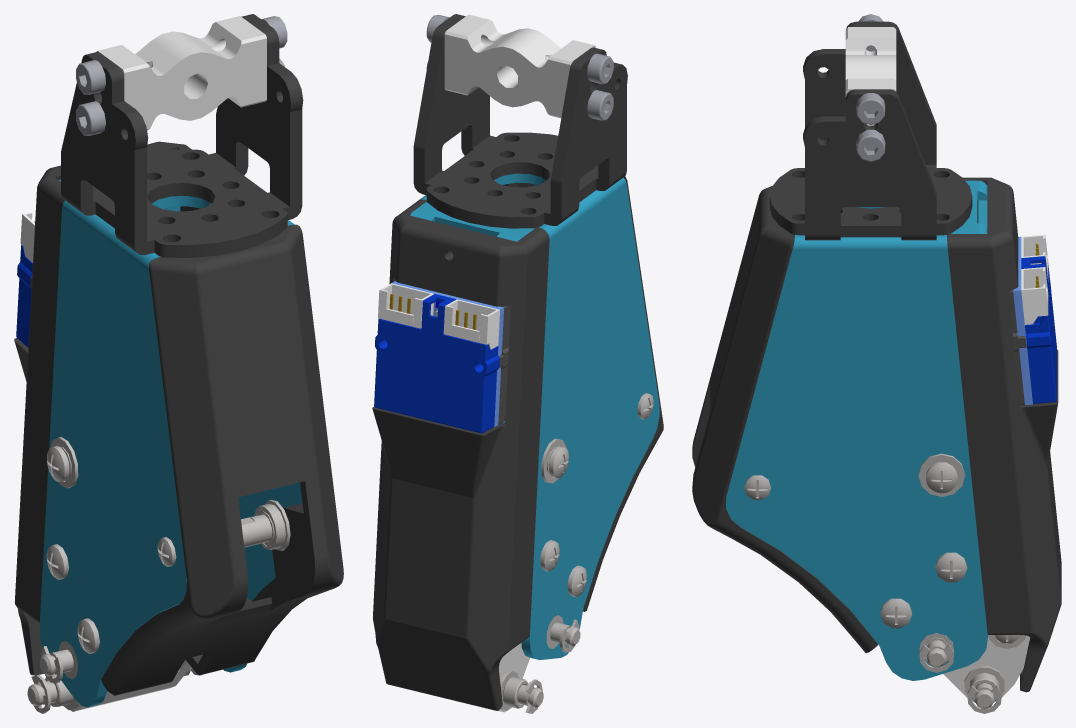
File: LARM_LINK7_mesh.dae
3 views of the same model, side by side, from view 1: azimuth 30°, elevation 25°; view 2: azimuth 150°, elevation 25°; view 3: azimuth 270°, elevation 25° (orthographic). The views are drawn at different scales.
Parts seen in each view (by area): view 1: サーフェス1, サーフェス1_ncl1_1; view 2: サーフェス1, サーフェス1_ncl1_1; view 3: サーフェス1, サーフェス1_ncl1_3.
Boxes of the visible parts, bbox=[...] form: サーフェス1: bbox=[14, 14, 343, 713]; サーフェス1_ncl1_1: bbox=[47, 446, 69, 481]; サーフェス1: bbox=[372, 14, 663, 713]; サーフェス1_ncl1_1: bbox=[549, 446, 568, 478]; サーフェス1: bbox=[692, 14, 1061, 713]; サーフェス1_ncl1_3: bbox=[926, 462, 957, 493].
Size of the model in its own units: 0.041 by 0.073 by 0.1366.
